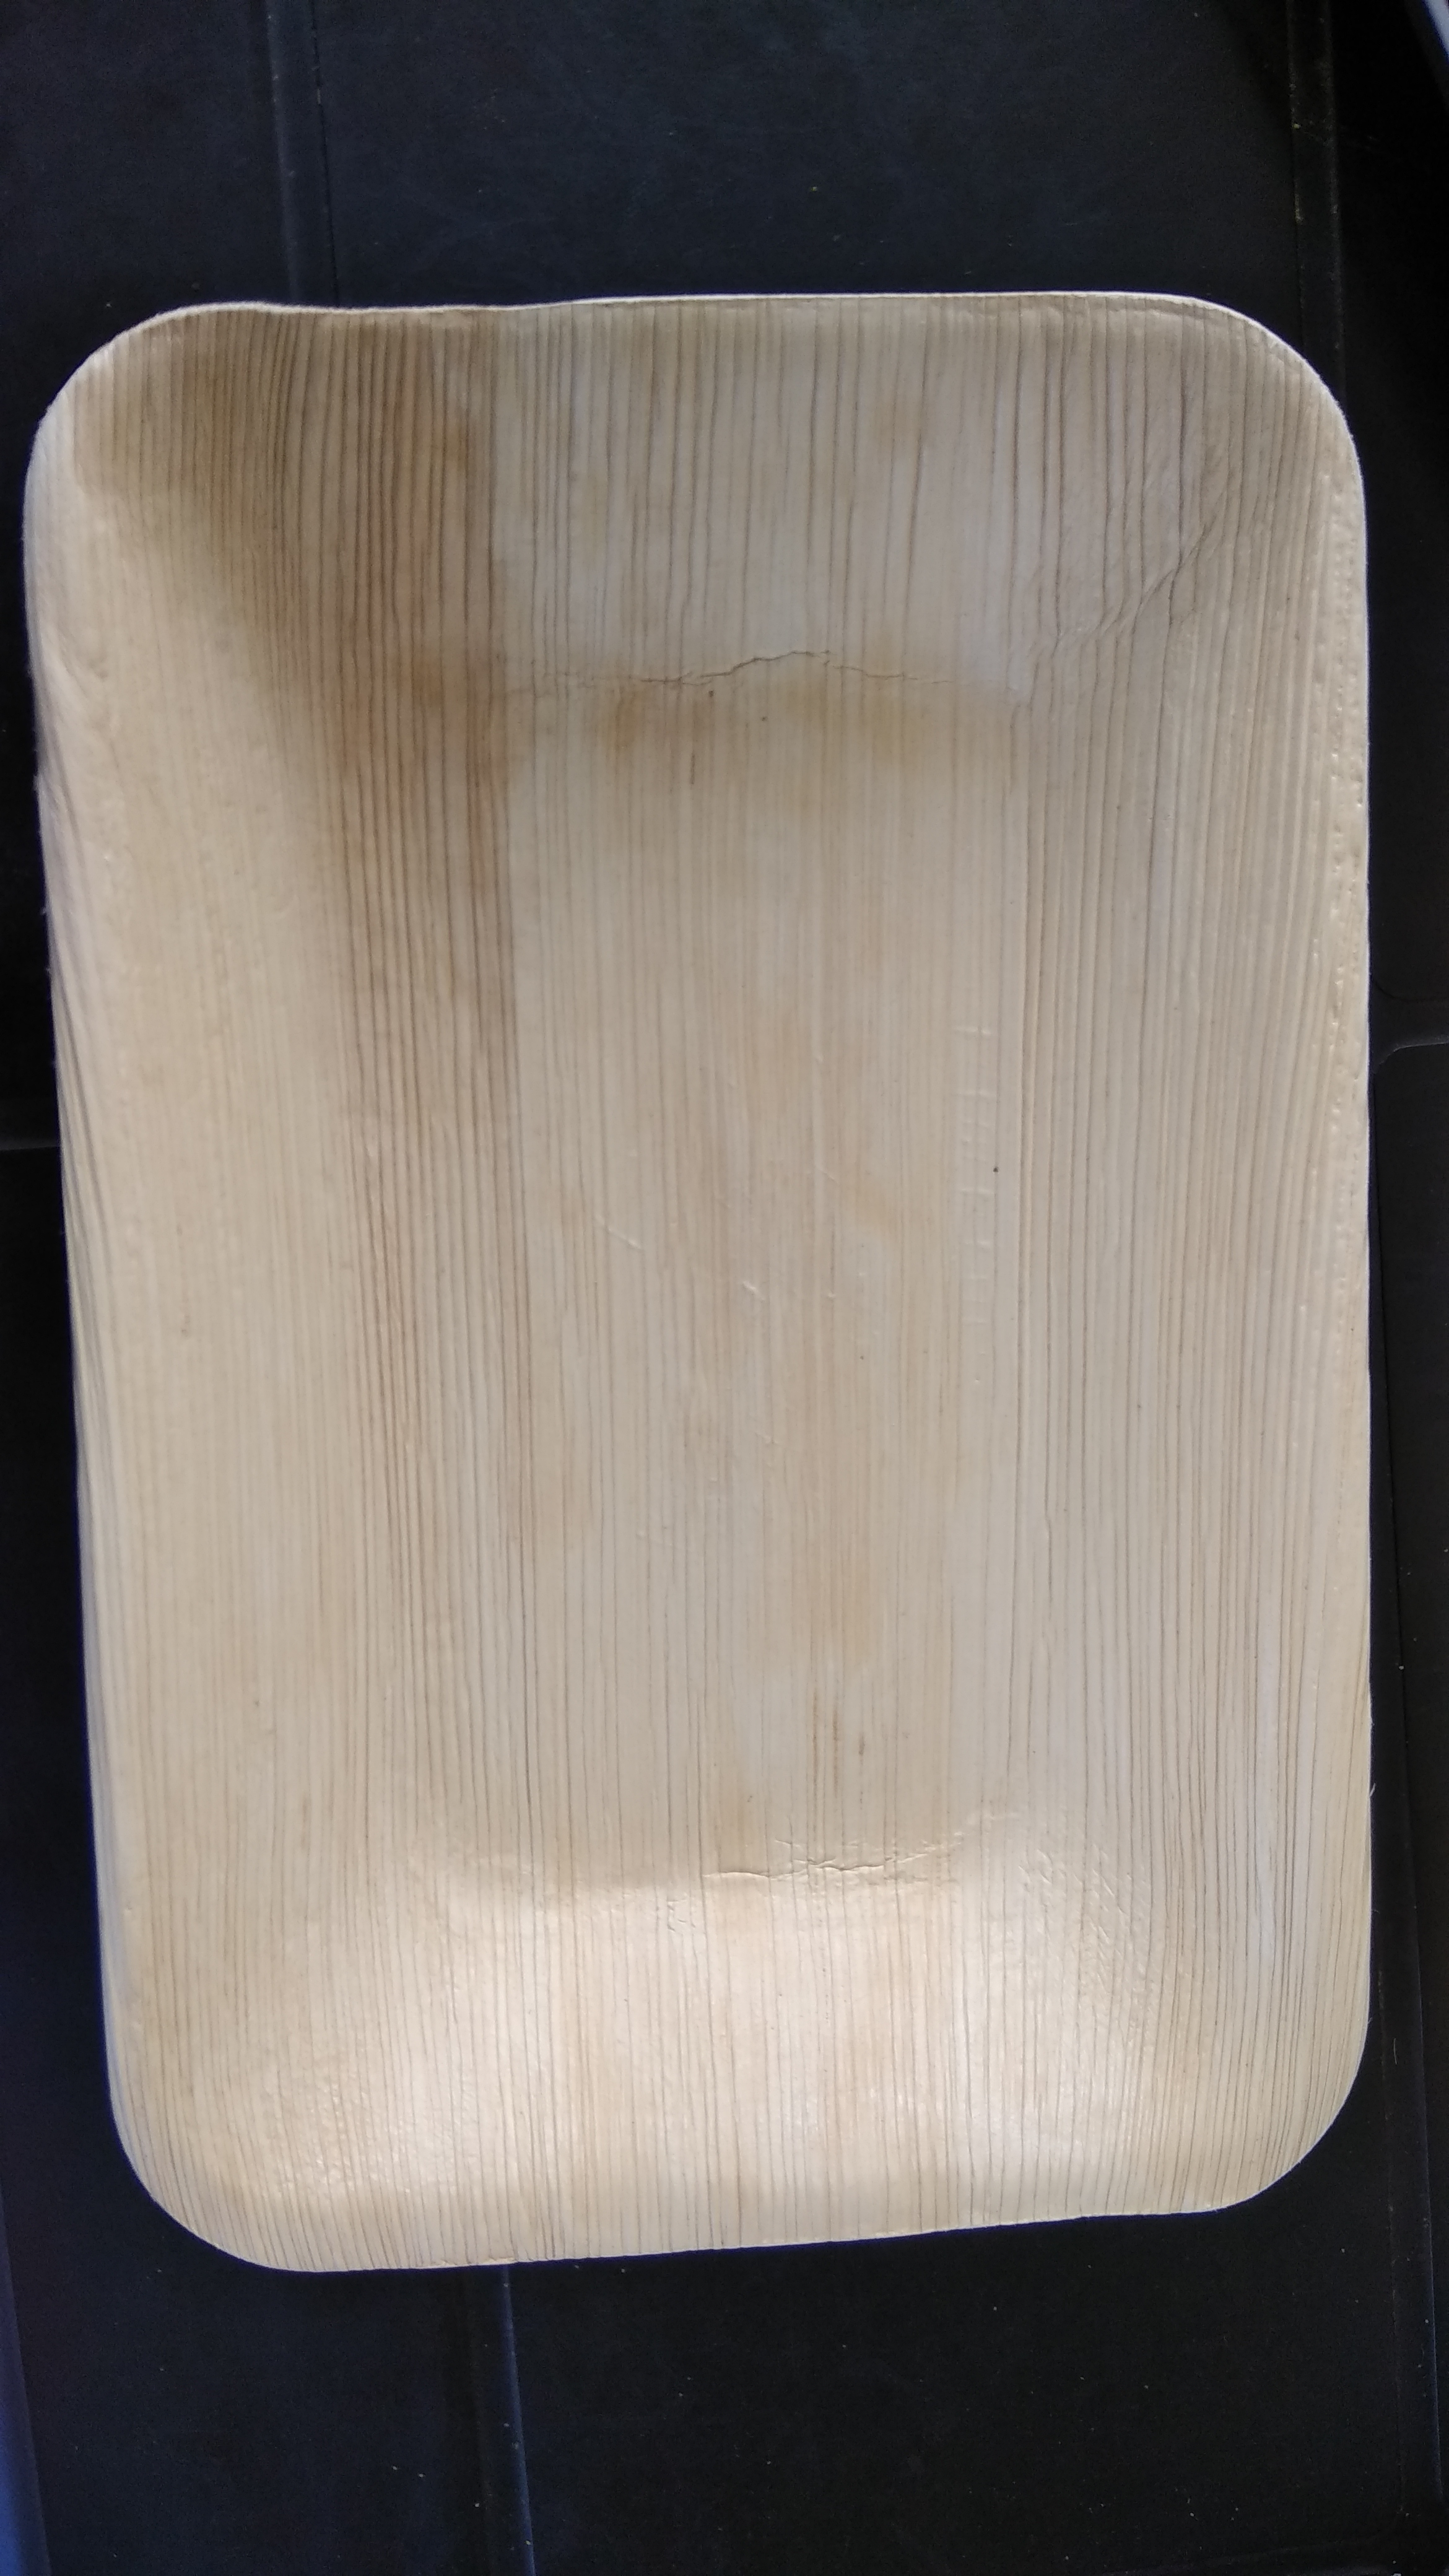areca plate: (41, 285, 1378, 2258)
